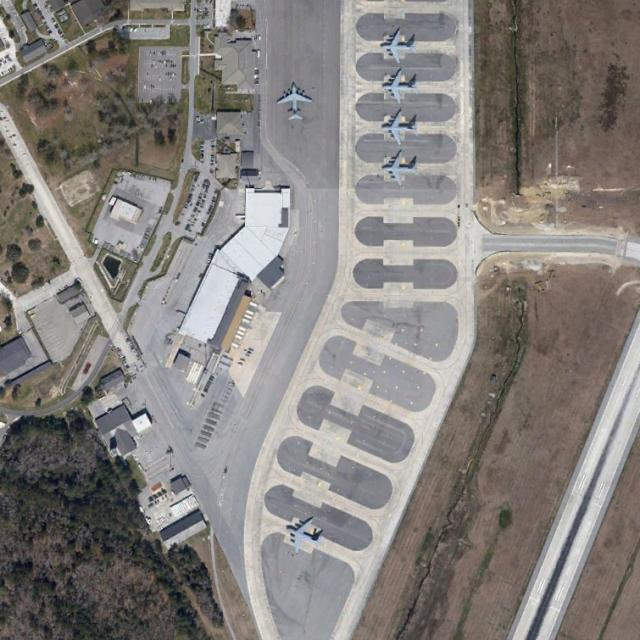fighter jet: (277, 514, 324, 556), (270, 81, 316, 122), (377, 149, 420, 188), (378, 107, 421, 145), (375, 28, 416, 63), (376, 69, 418, 103)
